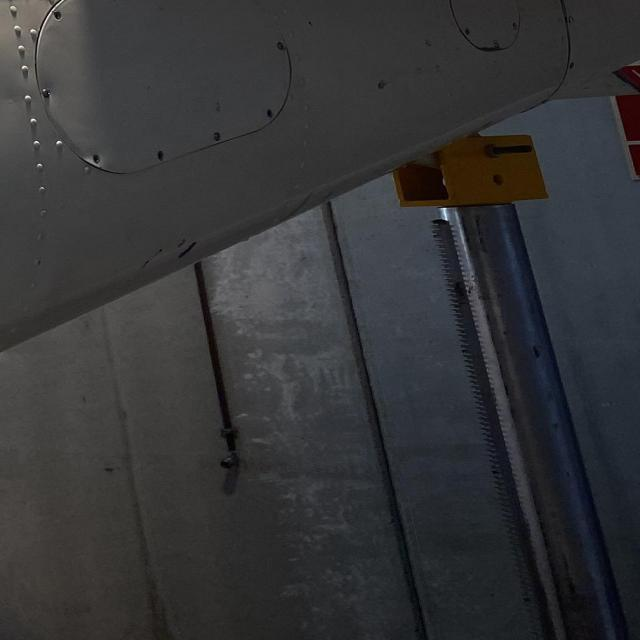Missing-head: (156, 150, 169, 163), (91, 153, 102, 165), (53, 11, 63, 20)
